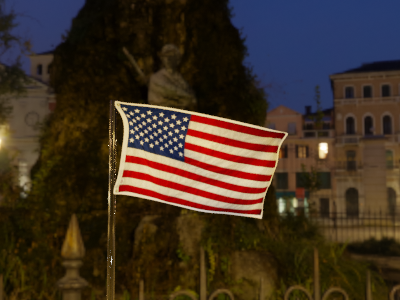America flag: (112, 100, 289, 221)
